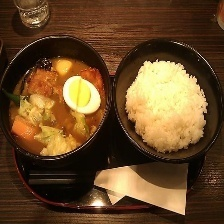sabzi: (1, 53, 110, 158)
